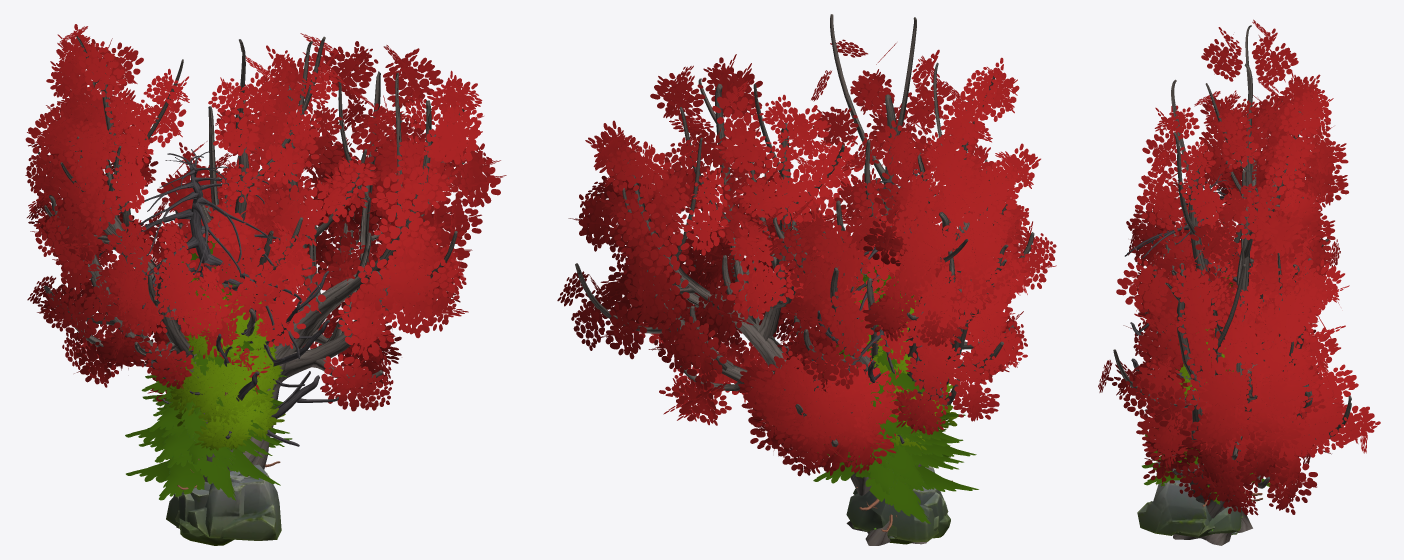
Rendered from nature.glb.
3 views of the same model, side by side, from view 1: azimuth 30°, elevation 25°; view 2: azimuth 150°, elevation 25°; view 3: azimuth 270°, elevation 25° (orthographic). The views are drawn at different scales.
Visible parts, largest first — view 1: TwistedTree_1, TwistedTree_2, CommonTree_1, DeadTree_3, CommonTree_3, Pine_4, Pine_2, Rock_Medium_3, DeadTree_1, Rock_Medium_1, Pine_1; view 2: TwistedTree_1, TwistedTree_2, Pine_2, Pine_4, Rock_Medium_2, DeadTree_3, Pine_1; view 3: TwistedTree_1, TwistedTree_2, Rock_Medium_3, DeadTree_3, Rock_Medium_2, Pine_2.
Part boxes in pixels (x1,y1,x2,y2): TwistedTree_1: [147, 33, 506, 528]; TwistedTree_2: [25, 24, 338, 482]; CommonTree_1: [169, 342, 285, 450]; DeadTree_3: [99, 149, 301, 358]; CommonTree_3: [175, 293, 282, 426]; Pine_4: [125, 236, 286, 489]; Pine_2: [126, 347, 292, 500]; Rock_Medium_3: [179, 464, 281, 545]; DeadTree_1: [140, 271, 338, 452]; Rock_Medium_1: [175, 471, 245, 538]; Pine_1: [139, 345, 272, 476]; TwistedTree_1: [557, 54, 926, 545]; TwistedTree_2: [758, 14, 1056, 466]; Pine_2: [813, 367, 978, 523]; Pine_4: [823, 267, 976, 532]; Rock_Medium_2: [846, 486, 939, 542]; DeadTree_3: [847, 169, 984, 380]; Pine_1: [827, 389, 963, 510]; TwistedTree_1: [1098, 174, 1380, 545]; TwistedTree_2: [1126, 19, 1348, 385]; Rock_Medium_3: [1137, 480, 1212, 535]; DeadTree_3: [1124, 173, 1253, 540]; Rock_Medium_2: [1208, 506, 1241, 533]; Pine_2: [1142, 448, 1278, 504].
Bounding box in the file's own units: 17.53 × 18.39 × 10.61.
Materials: 12 (12 with a texture image).
